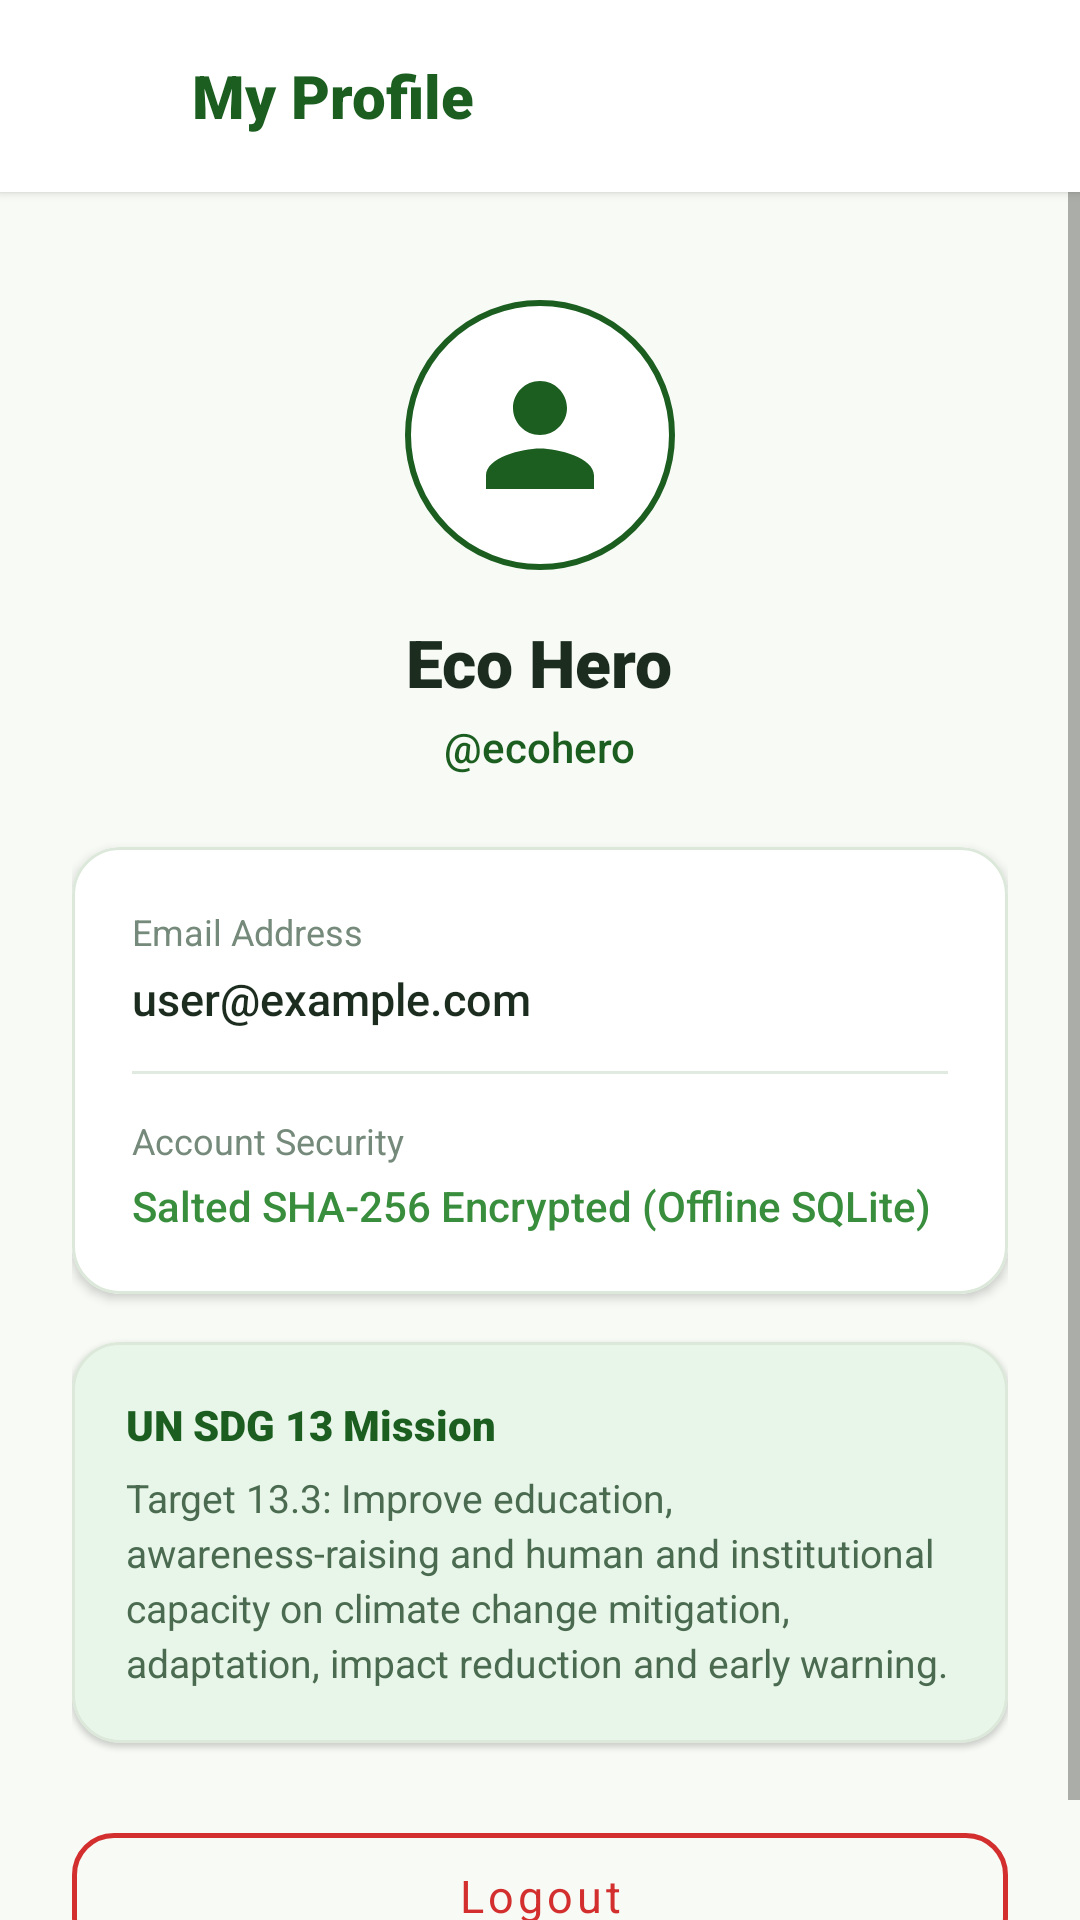

Icon bounding boxes for this 1080w x 1920h phone screenshot, format (x1, y1, x2, y2):
avatar: (405, 300, 675, 570)
